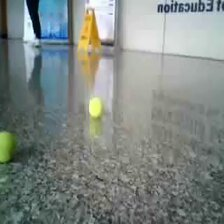tennis: (1, 131, 18, 163), (90, 97, 103, 118)
